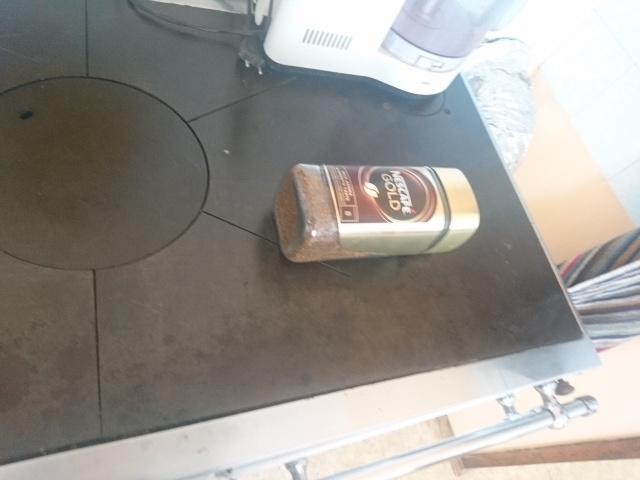Nescafe Gold 225g: (268, 159, 484, 267)
